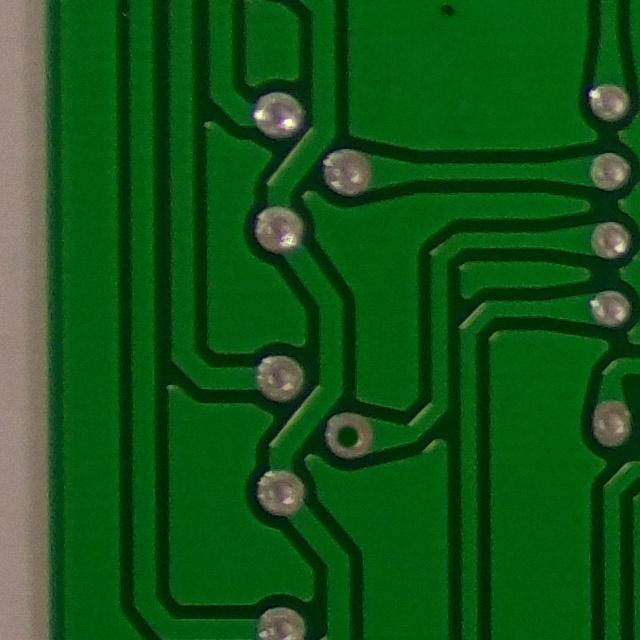missing_hole: (316, 405, 381, 464)
